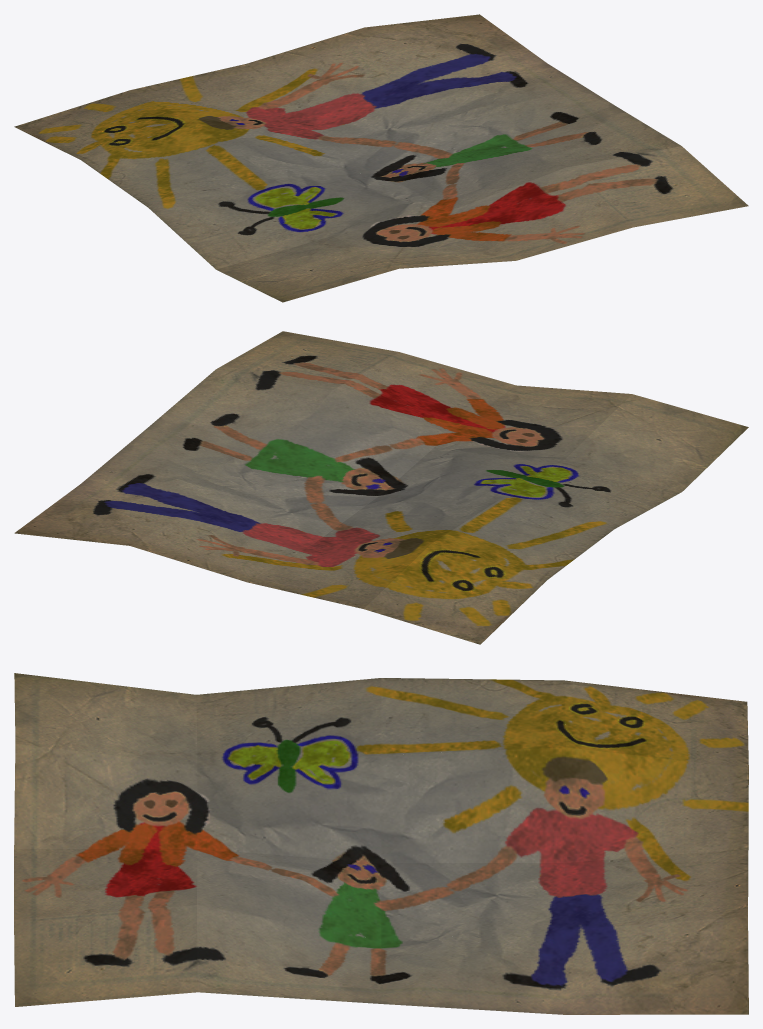
The model's file is Blatt.FBX.
3 views of the same model, one above another, from view 1: azimuth 30°, elevation 25°; view 2: azimuth 150°, elevation 25°; view 3: azimuth 270°, elevation 25° (orthographic). The views are drawn at different scales.
Parts seen in each view (by area): view 1: pb_Plane_46356; view 2: pb_Plane_46356; view 3: pb_Plane_46356.
Boxes of the visible parts, x1,y1,x2,y2 form: pb_Plane_46356: [14, 14, 748, 302]; pb_Plane_46356: [14, 331, 748, 644]; pb_Plane_46356: [14, 673, 748, 1014].
Bounding box in the file's own units: 0.0254 × 0.00159 × 0.0254.
